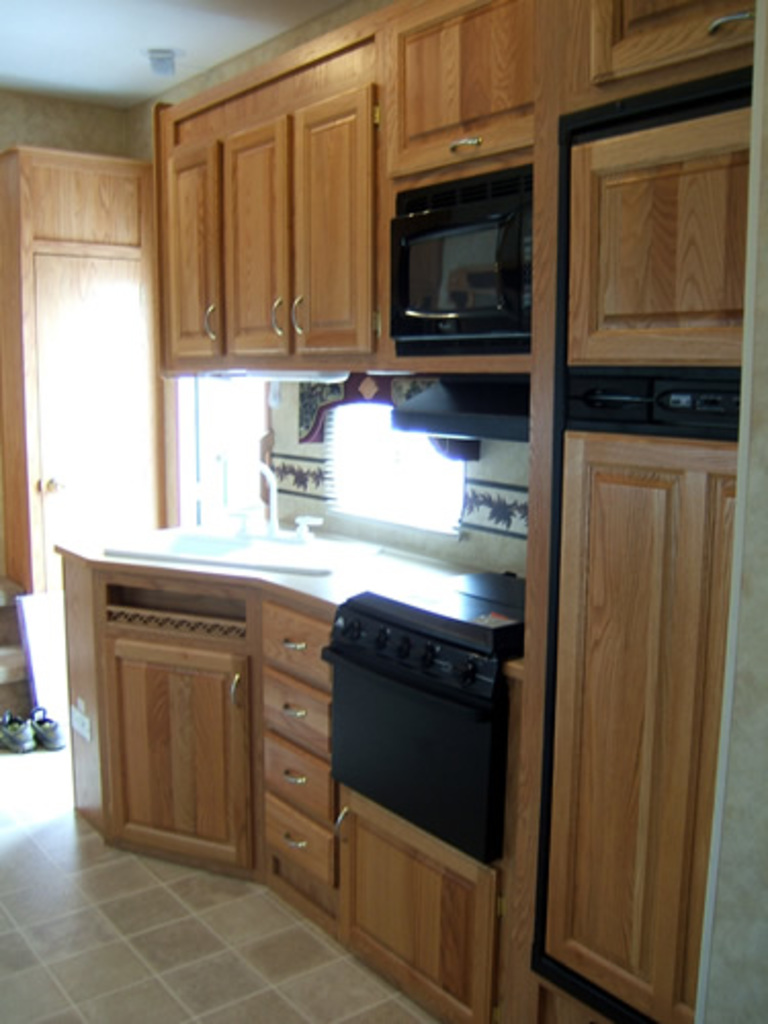cabinet door: (110, 646, 255, 856), (335, 809, 491, 974), (286, 127, 379, 346), (389, 30, 530, 159), (217, 138, 289, 356), (166, 164, 219, 356), (267, 742, 335, 802), (274, 812, 331, 870), (273, 622, 332, 676), (278, 678, 333, 728)
handle: (331, 798, 355, 856), (279, 821, 315, 859), (278, 751, 310, 789), (284, 624, 313, 661), (281, 694, 311, 727), (291, 290, 310, 337), (201, 297, 220, 344), (269, 294, 286, 336), (449, 135, 486, 154), (232, 668, 245, 708)
